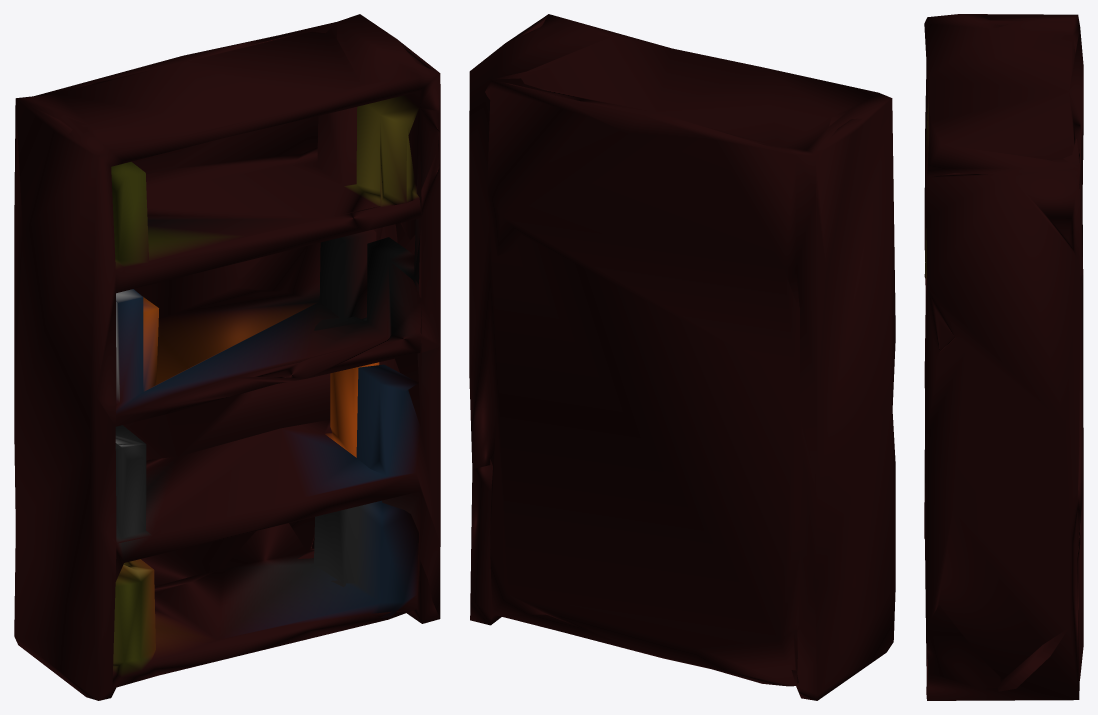
Rendered from gen3d-bookshelf-lod1.glb.
The picture shows the model from 3 angles, left to right: view 1: azimuth 30°, elevation 25°; view 2: azimuth 150°, elevation 25°; view 3: azimuth 270°, elevation 25°; orthographic projection. The views are drawn at different scales.
Parts seen in each view (by area): view 1: part_0; view 2: part_0; view 3: part_0.
Part boxes in pixels (box(x1,y1,x2,y2)): part_0: box(14, 14, 440, 700); part_0: box(469, 14, 895, 700); part_0: box(924, 14, 1083, 700).
Bounding box in the file's own units: 0.6624 × 0.9993 × 0.2735.
